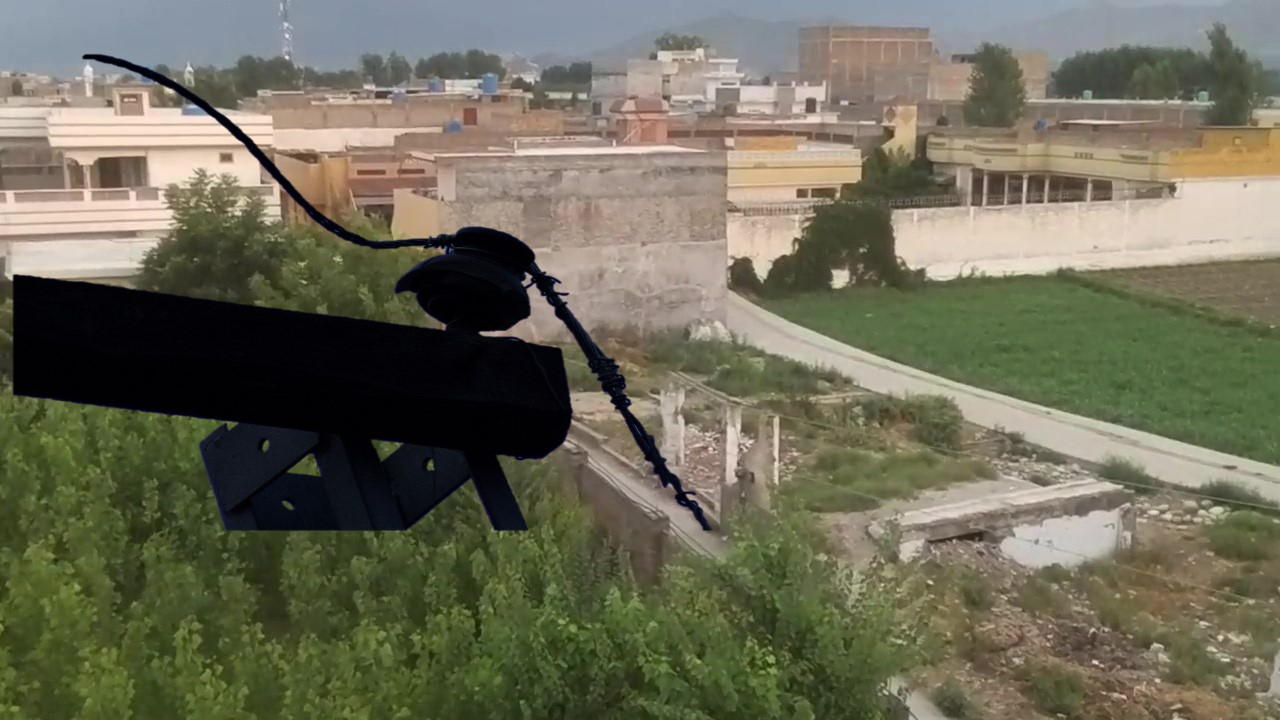defect_pin: (397, 212, 551, 340)
